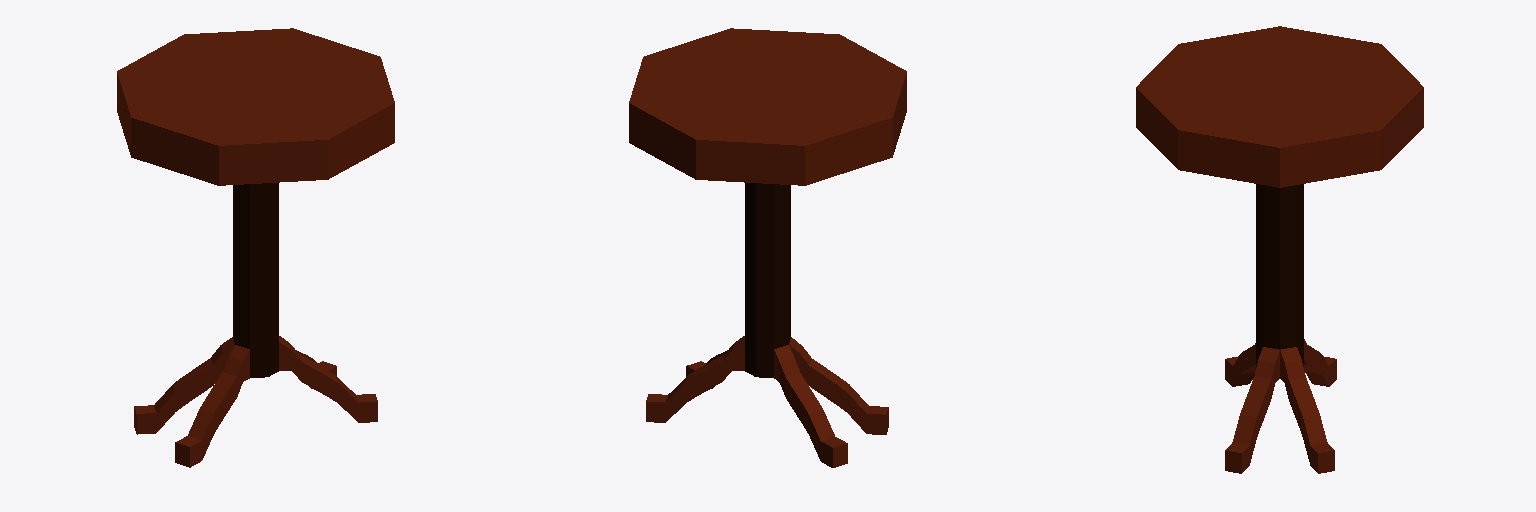
File: Mesa.obj
The picture shows the model from 3 angles: view 1: azimuth 30°, elevation 25°; view 2: azimuth 150°, elevation 25°; view 3: azimuth 270°, elevation 25°; orthographic projection.
Visible parts, largest first — view 1: Cilindro; view 2: Cilindro; view 3: Cilindro.
Boxes of the visible parts, x1=… form: Cilindro: x1=117, y1=28, x2=394, y2=467; Cilindro: x1=629, y1=28, x2=906, y2=467; Cilindro: x1=1136, y1=26, x2=1423, y2=473.
Bounding box in the file's own units: 2 × 2.59 × 2.